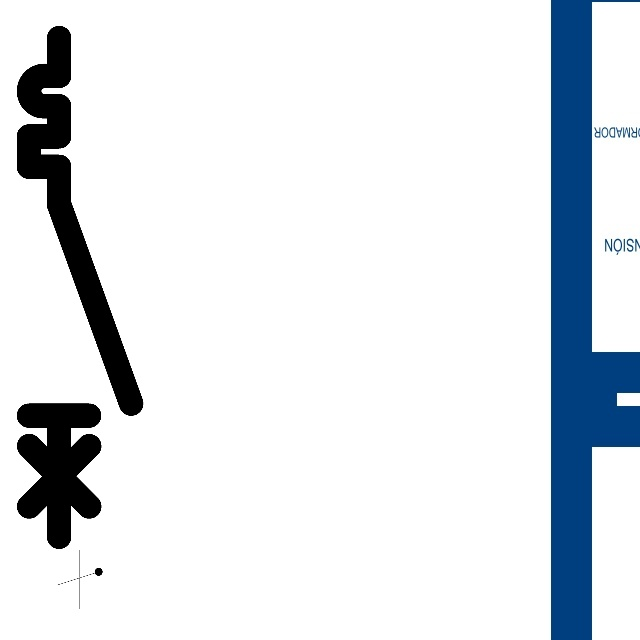interruptor_termomagnetico: (16, 25, 144, 549)
